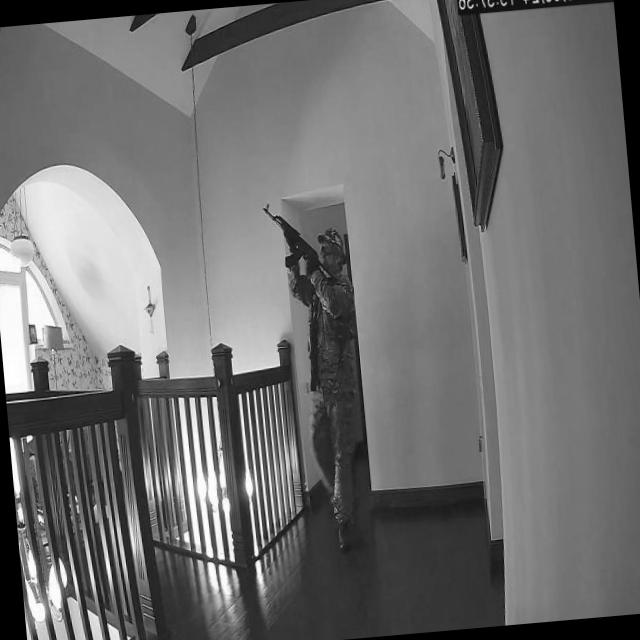gun: (258, 194, 332, 278)
person with a gun: (259, 197, 376, 556)
